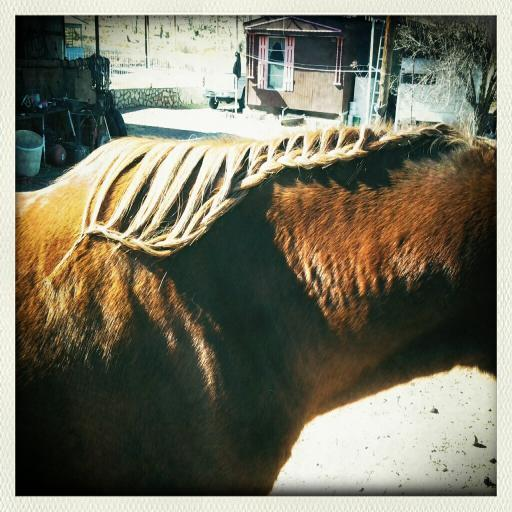horse: (16, 119, 496, 495)
